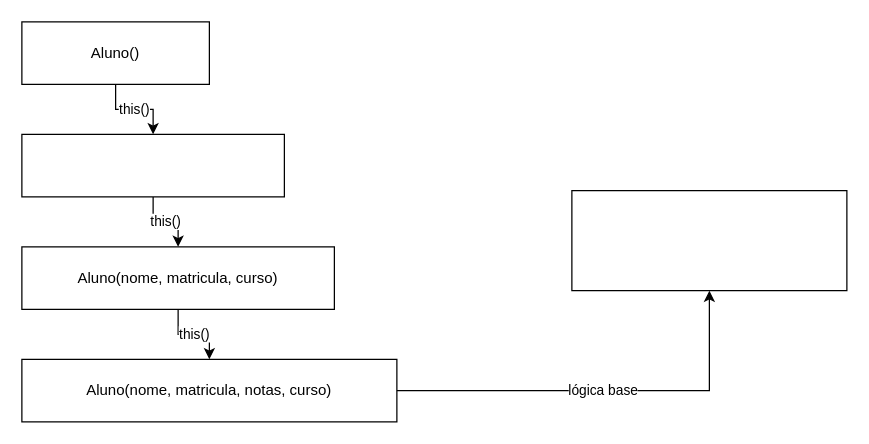
Some shapes in this 869 by 444 pixel diagram are drawn without their labels. The centre of each missing label's shape, as x and y in pixels:
"Aluno(nome, matricula)" belongs at (x=152, y=165).
"Validação + inicialização" belongs at (x=709, y=240).
